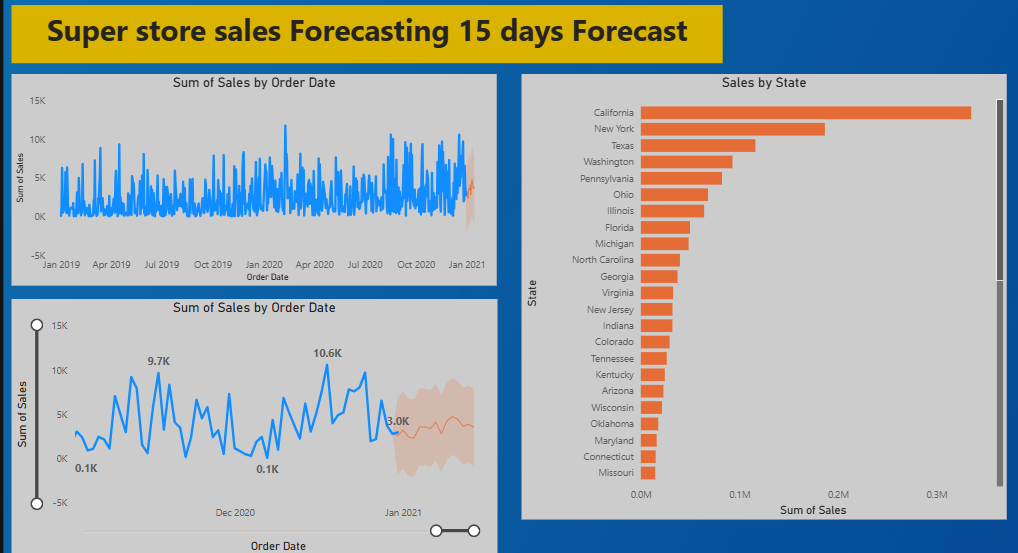

What the dashboard file says about the page in this screenshot:
{"tool":"powerbi","page":{"name":"Super store sales Forecasting","canvas":[1280,720],"ordinal":1},"visuals":[{"type":"lineChart","title":" sales Forecasting 15 days Forecast","fields":{"Y":["Sum(SuperStore_Sales_Dataset (2).Sales)"],"Category":["SuperStore_Sales_Dataset (2).Order Date"]},"box":[9.8,113.9,611.6,266.8],"z":0},{"type":"lineChart","title":"sales Forecasting 15 days Forecast","fields":{"Y":["Sum(SuperStore_Sales_Dataset (2).Sales)"],"Category":["SuperStore_Sales_Dataset (2).Order Date"]},"box":[9.8,396.9,611.6,323.7],"z":1000},{"type":"clusteredBarChart","title":"Sales by State","fields":{"Category":["SuperStore_Sales_Dataset (2).State"],"Y":["Sum(SuperStore_Sales_Dataset (2).Sales)"]},"box":[652.2,113.9,611.6,561.2],"z":2000},{"type":"textbox","box":[9.8,26,896.2,73.2],"z":2001}]}

Visuals, with their boxes on the page's 1280x720 design canvas (x1, y1, x2, y2). These are canvas units, not pixel positions in the 1018x553 screenshot, which may show the page scaled, cropped or inside an application window:
" sales Forecasting 15 days Forecast" lineChart: box(10, 114, 621, 381)
"sales Forecasting 15 days Forecast" lineChart: box(10, 397, 621, 721)
"Sales by State" clusteredBarChart: box(652, 114, 1264, 675)
textbox: box(10, 26, 906, 99)
